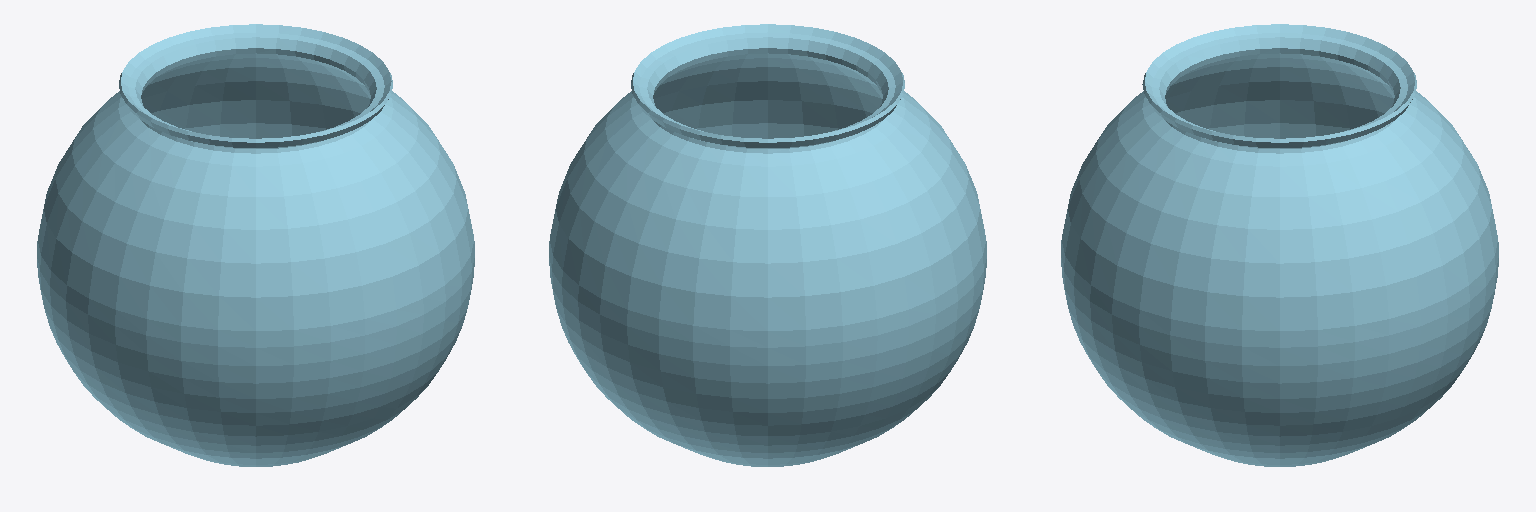
The picture shows the model from 3 angles: view 1: azimuth 30°, elevation 25°; view 2: azimuth 150°, elevation 25°; view 3: azimuth 270°, elevation 25°; orthographic projection.
Visible parts, largest first — view 1: Pecera__Fish_bowl_v1_l1__fish_bowl_bowl; view 2: Pecera__Fish_bowl_v1_l1__fish_bowl_bowl; view 3: Pecera__Fish_bowl_v1_l1__fish_bowl_bowl.
Part boxes in pixels (left/top/right/bottom): Pecera__Fish_bowl_v1_l1__fish_bowl_bowl: left=37, top=24, right=474, bottom=466; Pecera__Fish_bowl_v1_l1__fish_bowl_bowl: left=549, top=24, right=986, bottom=466; Pecera__Fish_bowl_v1_l1__fish_bowl_bowl: left=1061, top=24, right=1498, bottom=466.
Size of the model in its own units: 0.3795 by 0.3334 by 0.3794.
1 materials, 1 textured.